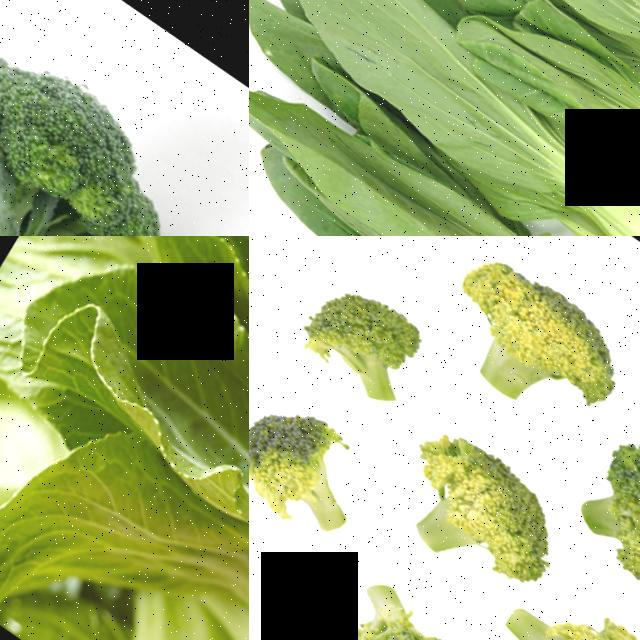bok choy: (251, 0, 640, 236), (249, 50, 640, 236), (133, 236, 249, 640), (446, 0, 640, 230), (78, 422, 249, 640), (448, 0, 640, 157)
broccoli: (0, 0, 249, 236), (360, 390, 586, 623), (419, 236, 640, 450), (249, 355, 402, 590), (271, 236, 446, 421), (551, 400, 640, 623), (307, 543, 489, 640), (475, 550, 640, 640)
